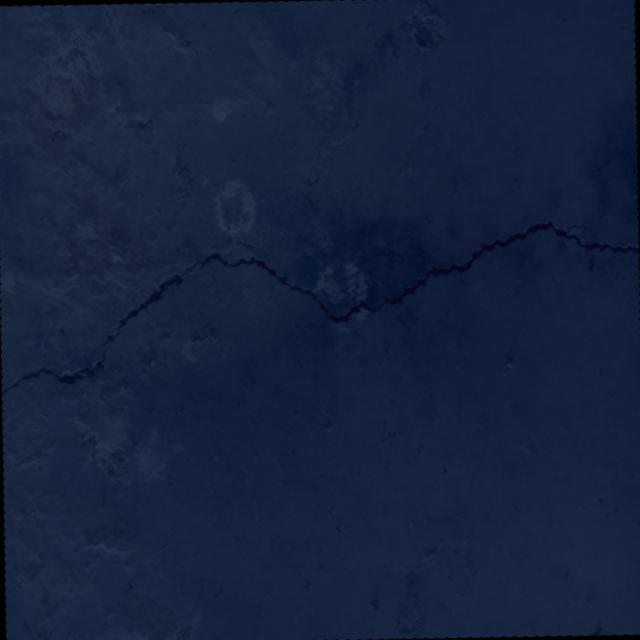crack: (0, 208, 640, 393)
